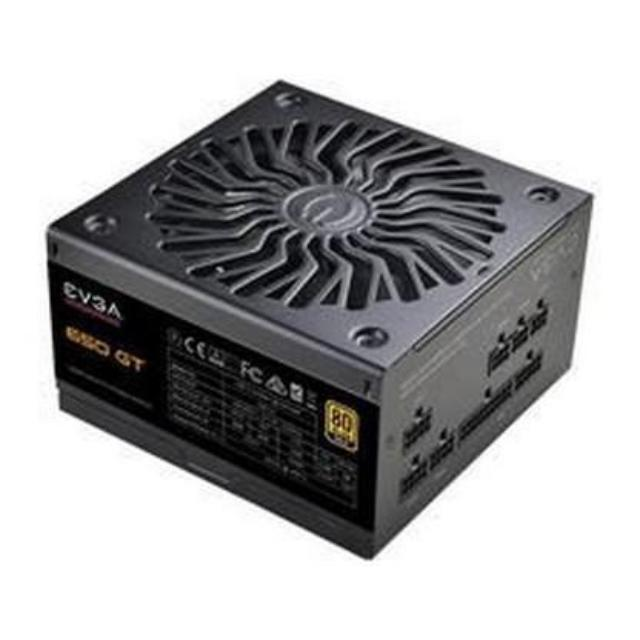PSU: (36, 59, 610, 568)
